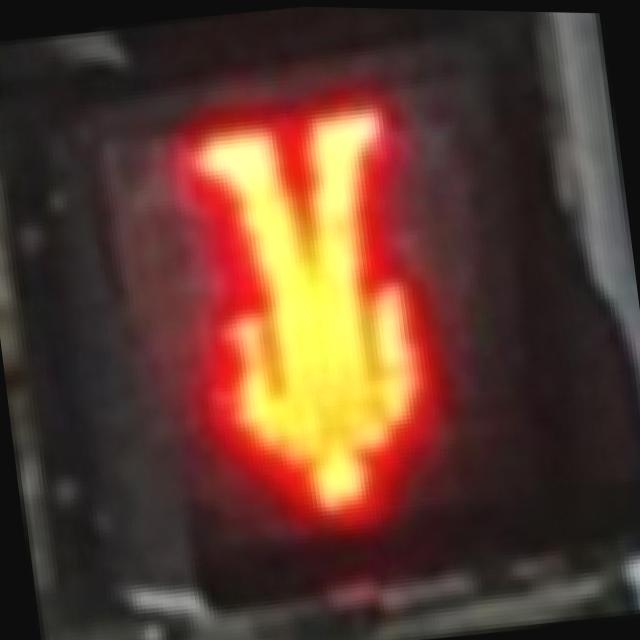red_light: (182, 90, 469, 553)
